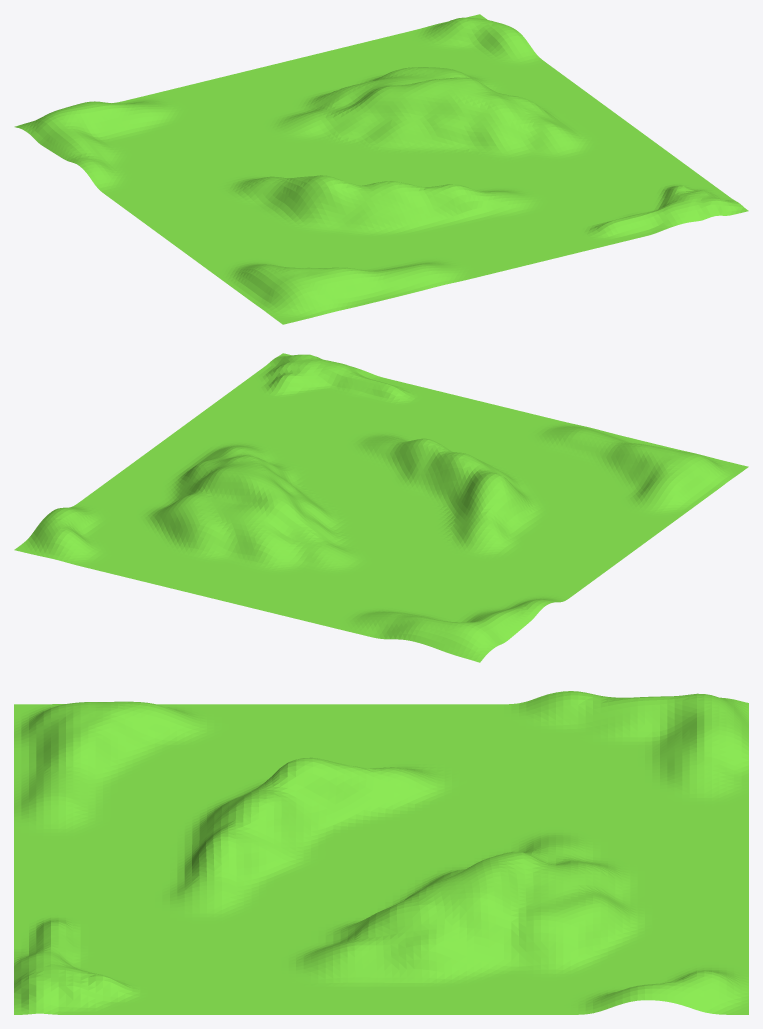
Rendered from lolz.dae.
3 renders of one model, top to bottom at view 1: azimuth 30°, elevation 25°; view 2: azimuth 150°, elevation 25°; view 3: azimuth 270°, elevation 25°, orthographic. The views are drawn at different scales.
Visible parts, largest first — view 1: Grid; view 2: Grid; view 3: Grid.
Part boxes in pixels (x1=…): Grid: x1=14, y1=14, x2=748, y2=324; Grid: x1=14, y1=353, x2=748, y2=662; Grid: x1=14, y1=691, x2=748, y2=1014.
Size of the model in its own units: 12.96 by 12.96 by 0.9854.
